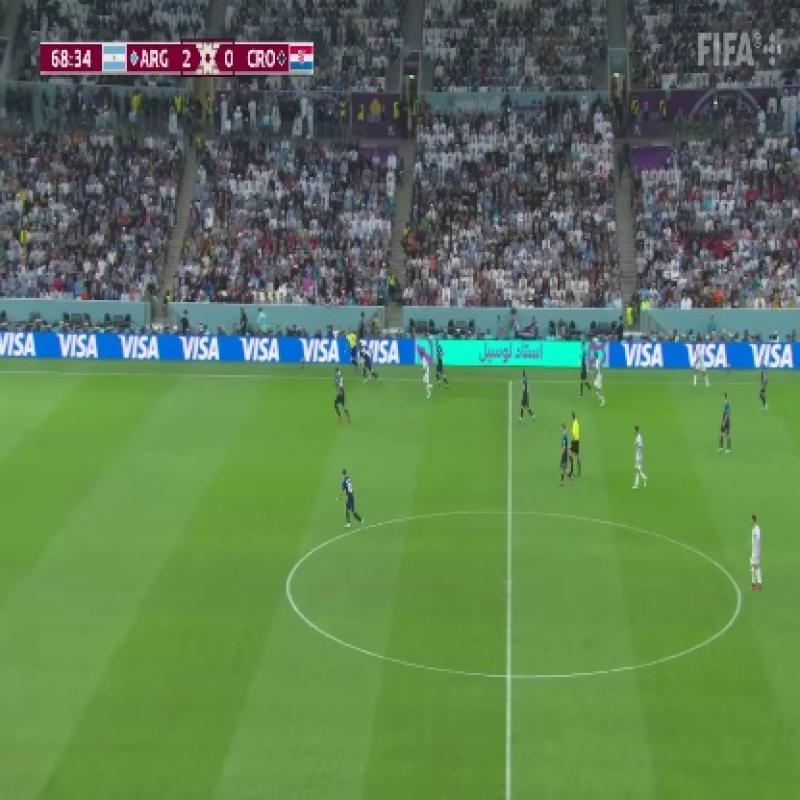13: (500, 370, 519, 392)
14: (492, 493, 524, 528)
15: (492, 654, 523, 696)
c: (722, 574, 758, 626), (269, 570, 309, 614)
